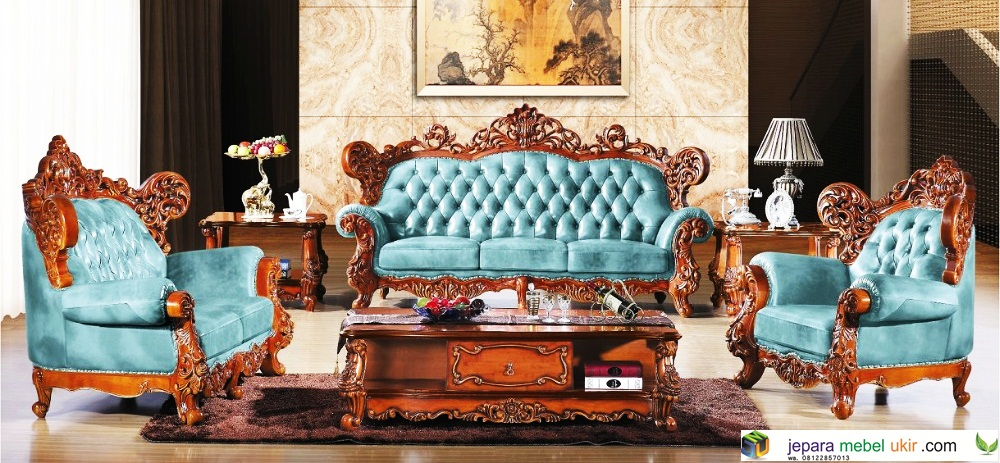Carving Chair: (27, 146, 321, 438), (738, 174, 1000, 418), (332, 301, 705, 446)
